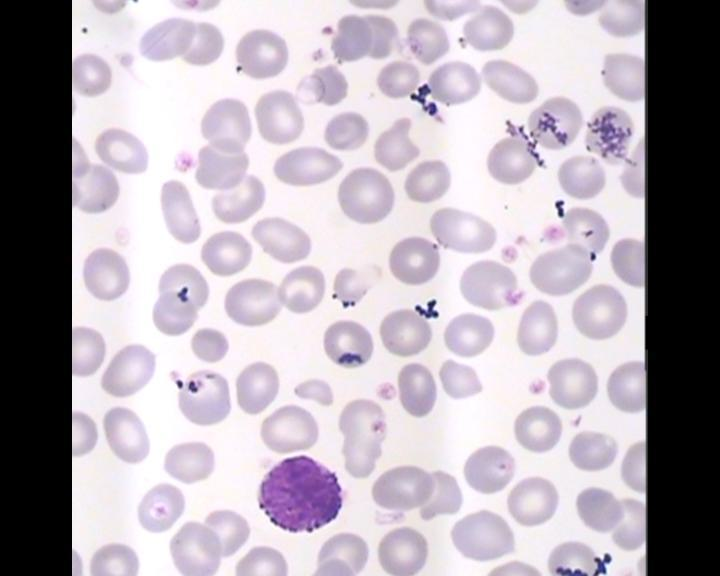baso: (249, 453, 353, 536)
